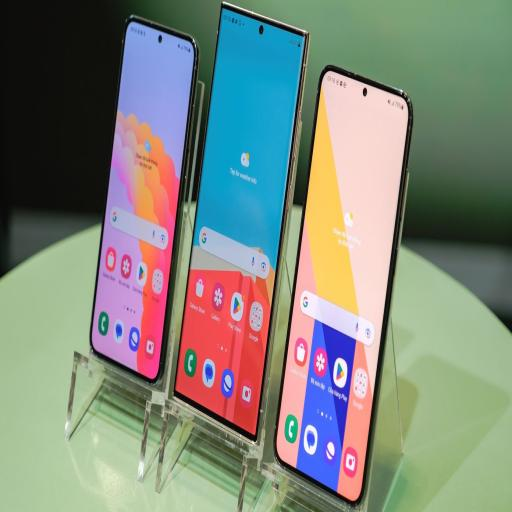phone: (172, 3, 308, 446)
